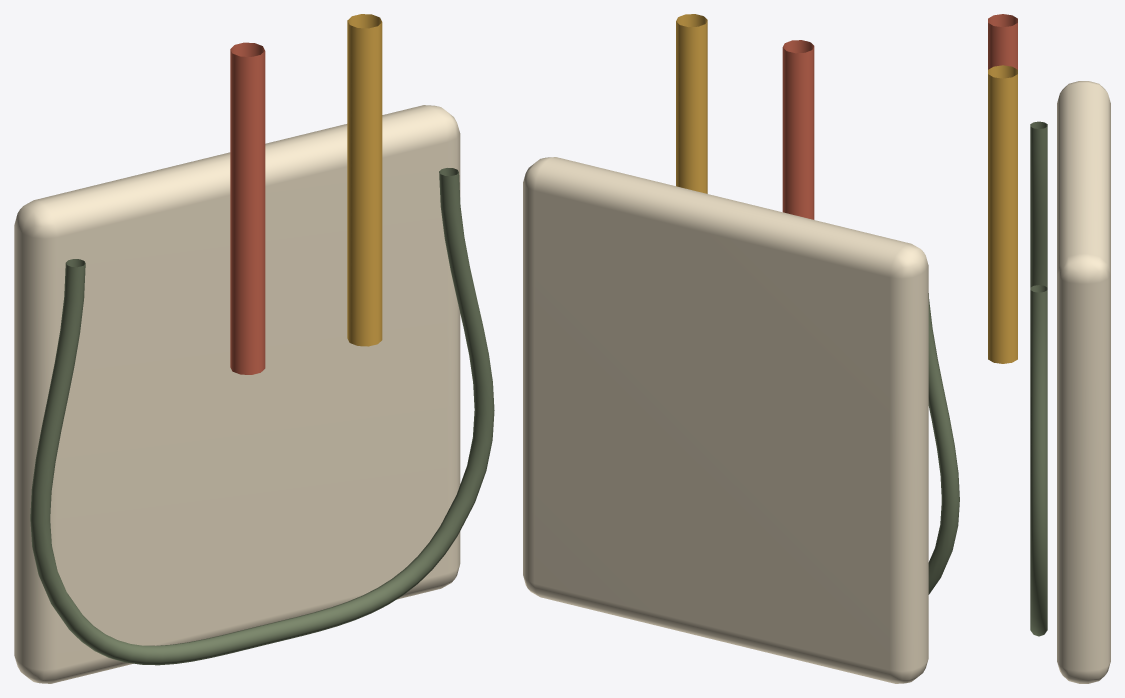
File: NeighborPocket.fbx
3 renders of one model, left to right at view 1: azimuth 30°, elevation 25°; view 2: azimuth 150°, elevation 25°; view 3: azimuth 270°, elevation 25°, orthographic. The views are drawn at different scales.
Visible parts, largest first — view 1: ShirtPocket, PocketSeam, Pencil, Pencil.001; view 2: ShirtPocket, Pencil.001, Pencil, PocketSeam; view 3: ShirtPocket, PocketSeam, Pencil, Pencil.001.
Boxes of the visible parts, x1,y1,x2,y2 form: ShirtPocket: (14, 105, 460, 683); PocketSeam: (30, 168, 494, 665); Pencil: (347, 14, 382, 346); Pencil.001: (230, 42, 265, 374); ShirtPocket: (523, 157, 928, 683); Pencil.001: (782, 40, 814, 219); Pencil: (676, 14, 707, 193); PocketSeam: (928, 293, 959, 594); ShirtPocket: (1057, 81, 1110, 683); PocketSeam: (1030, 121, 1047, 636); Pencil: (988, 65, 1017, 363); Pencil.001: (988, 14, 1017, 69).
Size of the model in its own units: 10.63 by 13.75 by 2.73.
